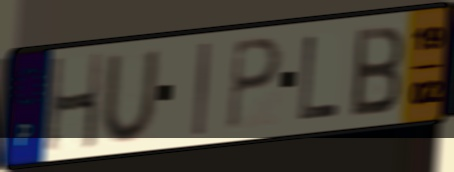B: (350, 22, 407, 119)
H: (45, 50, 104, 156)
I: (192, 39, 213, 139)
L: (295, 33, 342, 124)
P: (226, 35, 284, 135)
U: (100, 47, 162, 145)
